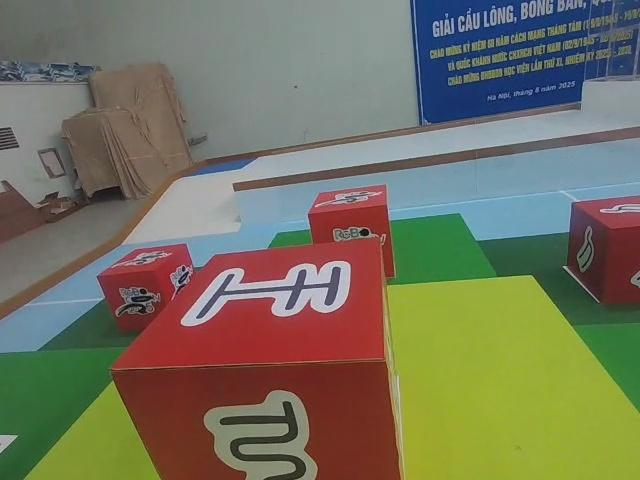R1: (94, 242, 197, 333), (307, 182, 396, 277)
R2 Fake: (106, 234, 410, 480)
R2 Real: (563, 193, 640, 307)
